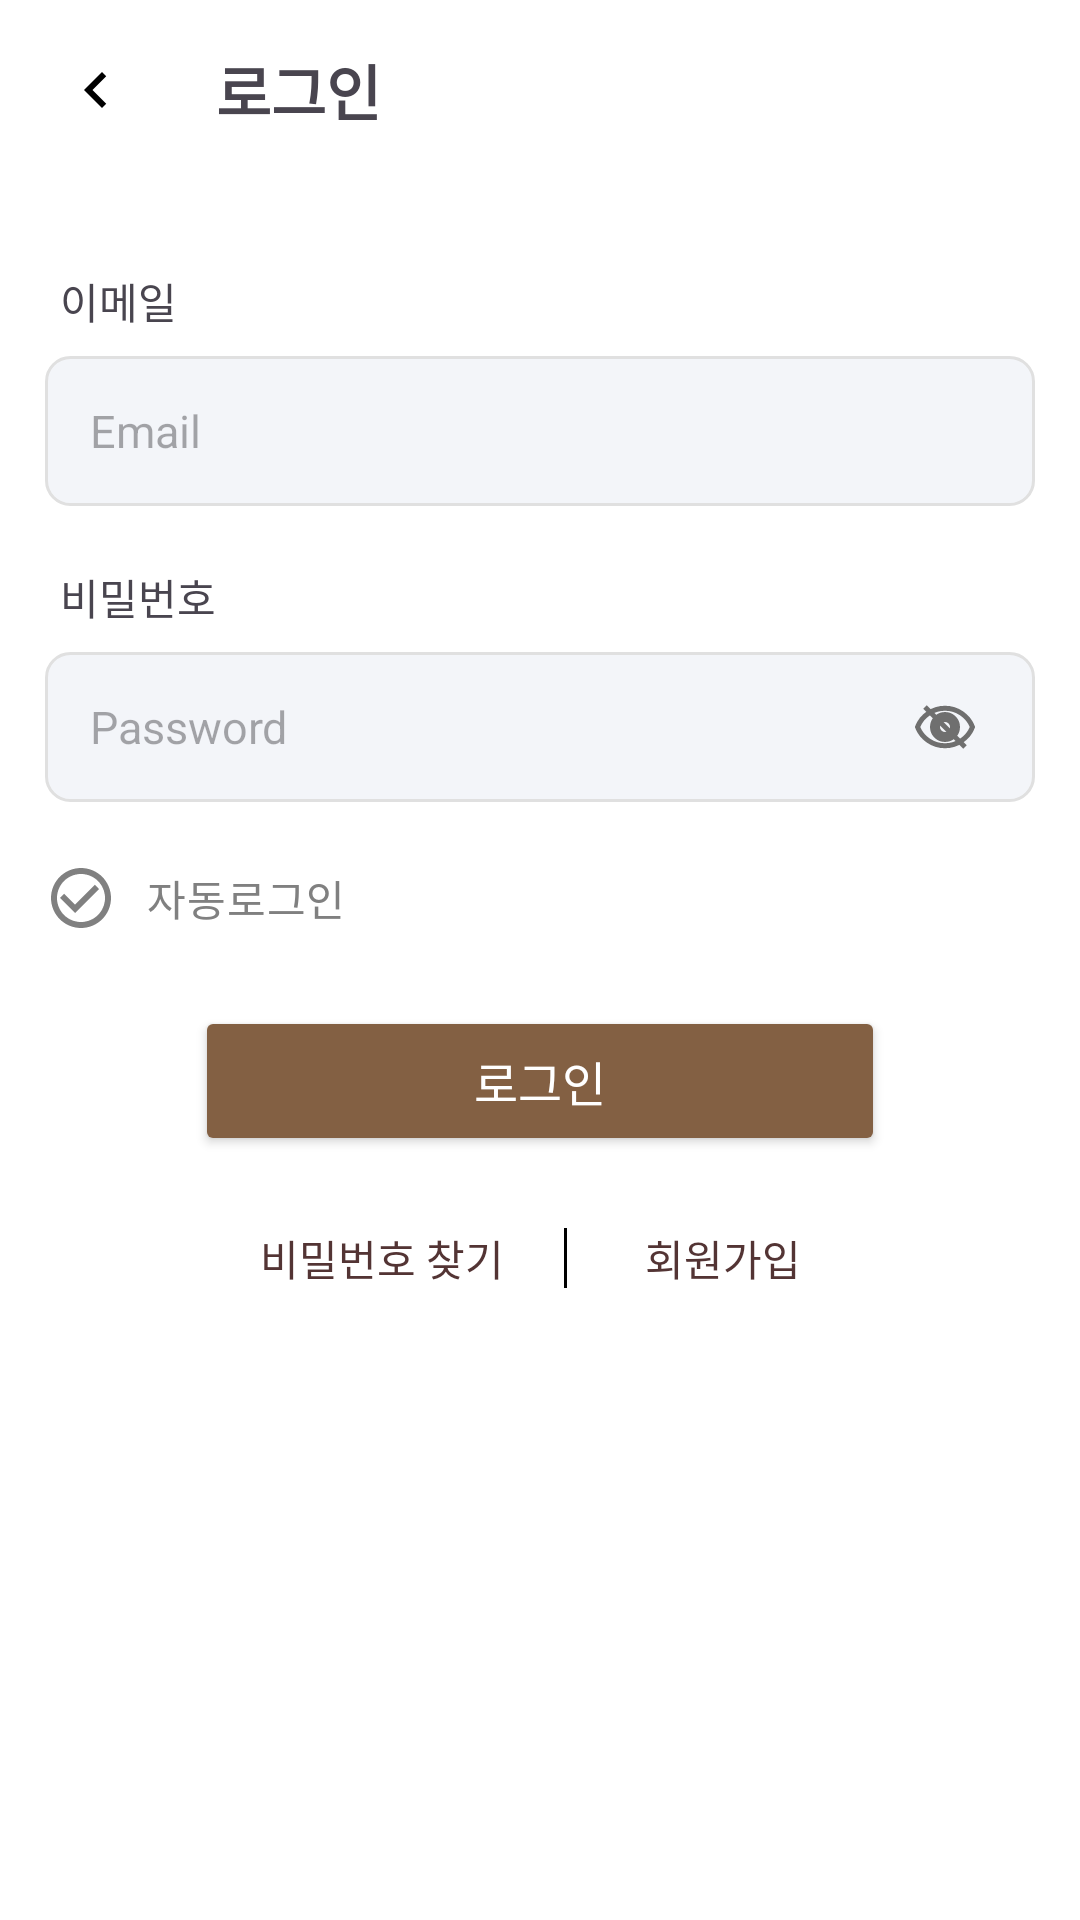

Icons on this 1080px x 1920px Android screen, each with its box as (x1, y1, x2, y2):
back: (84, 72, 106, 108)
